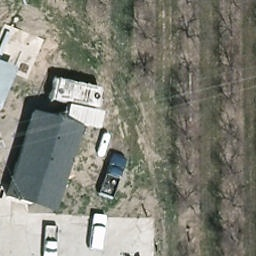camping car: (46, 76, 107, 108), (65, 103, 106, 132)
car: (83, 213, 107, 253)
pickup: (97, 152, 130, 202)
